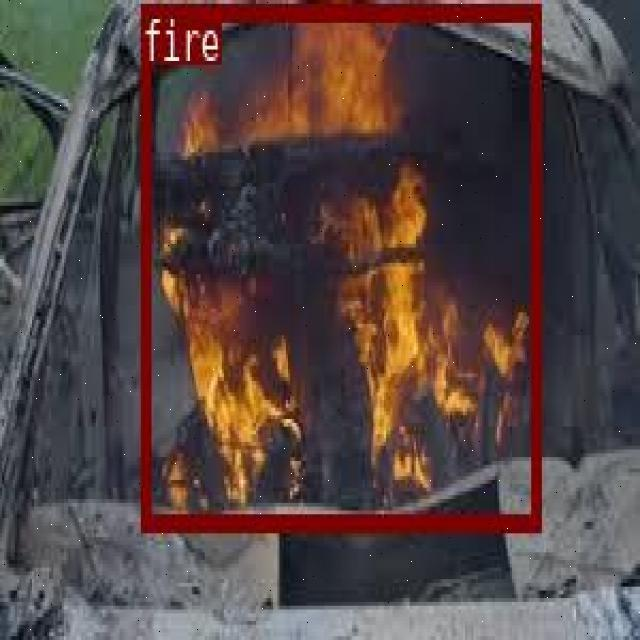fire: (139, 1, 538, 528)
